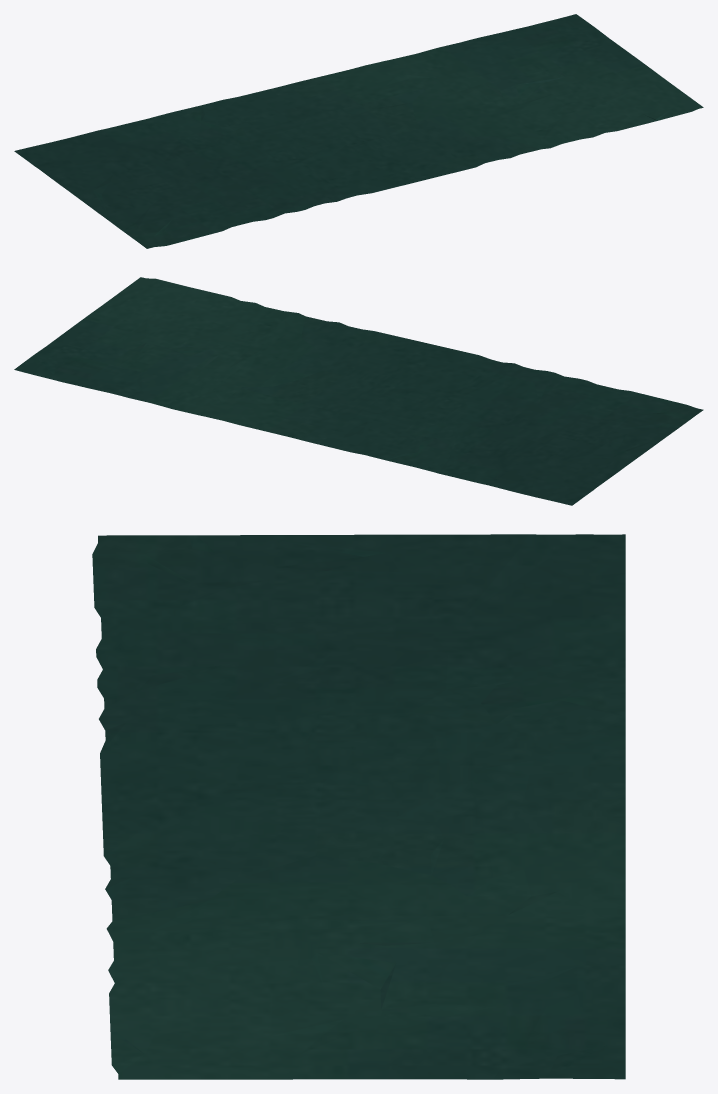
The picture shows the model from 3 angles, top to bottom: view 1: azimuth 30°, elevation 25°; view 2: azimuth 150°, elevation 25°; view 3: azimuth 270°, elevation 25°; orthographic projection. The views are drawn at different scales.
Bounding box in the file's own units: 209 × 0.7147 × 86.44.
1 material, 1 textured.
